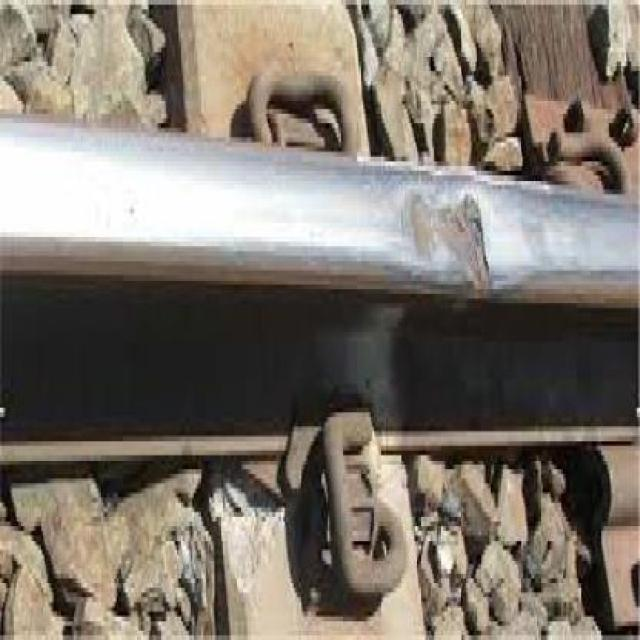defective: (339, 126, 577, 384)
